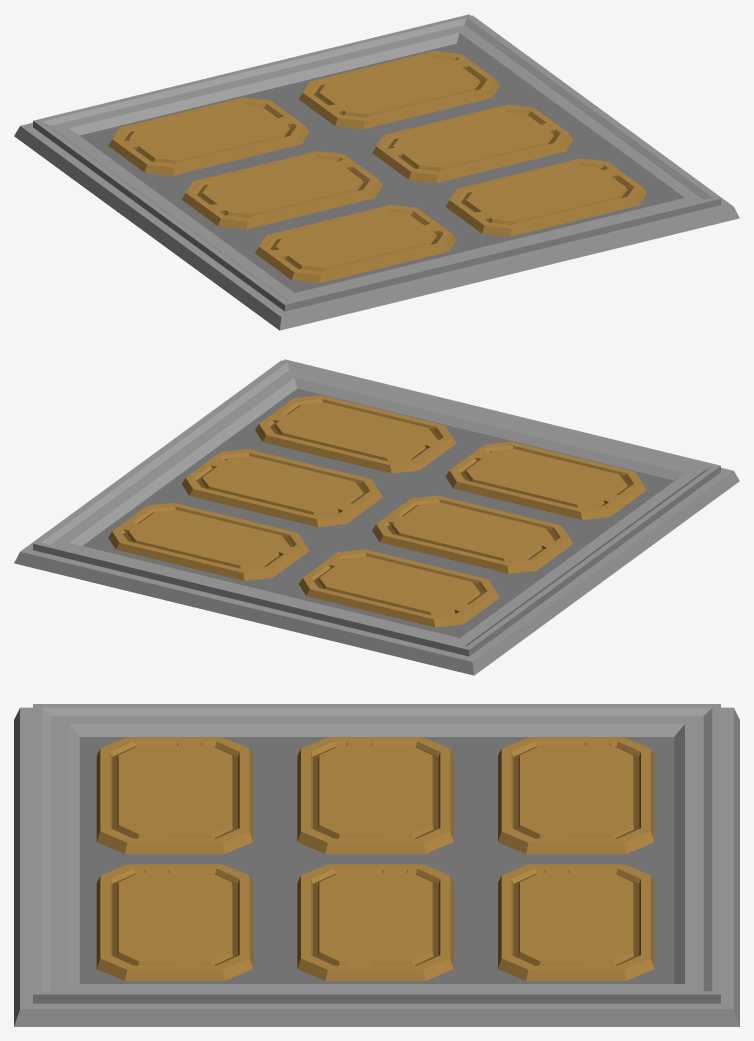
File: RoofTile_Details.glb
The picture shows the model from 3 angles, top to bottom: view 1: azimuth 30°, elevation 25°; view 2: azimuth 150°, elevation 25°; view 3: azimuth 270°, elevation 25°; orthographic projection. The views are drawn at different scales.
Parts seen in each view (by area): view 1: RoofTile_Details; view 2: RoofTile_Details; view 3: RoofTile_Details.
Part boxes in pixels (x1=…): RoofTile_Details: x1=14, y1=14, x2=739, y2=330; RoofTile_Details: x1=14, y1=359, x2=739, y2=675; RoofTile_Details: x1=14, y1=704, x2=739, y2=1026.
Size of the model in its own units: 0.68 by 0.0274 by 0.68.
